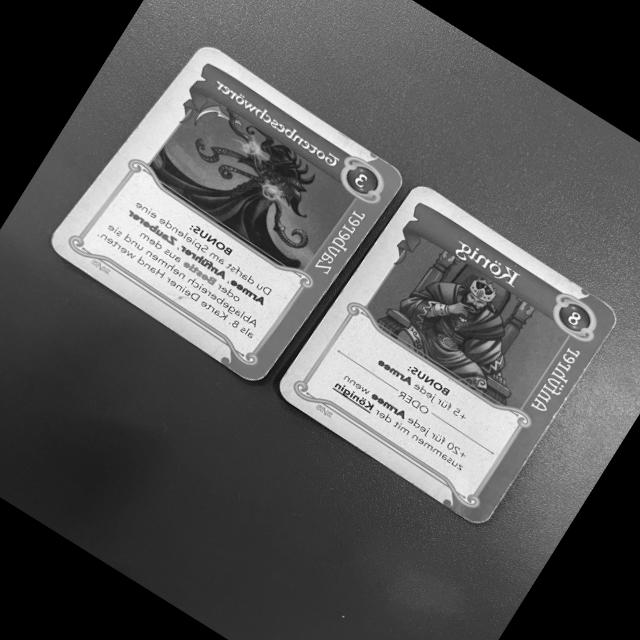King: (271, 182, 624, 531)
Necromancer: (39, 40, 408, 390)
